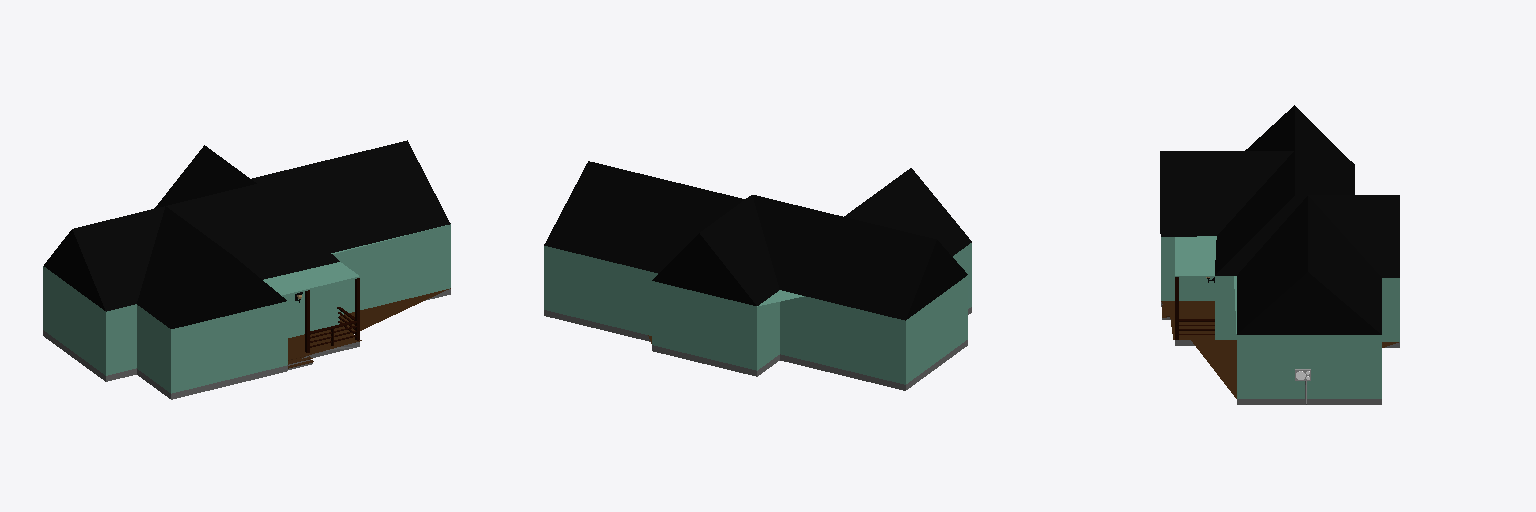
The model's file is house1.obj.
3 renders of one model, left to right at view 1: azimuth 30°, elevation 25°; view 2: azimuth 150°, elevation 25°; view 3: azimuth 270°, elevation 25°, orthographic.
Parts seen in each view (by area): view 1: Plane.001; view 2: Plane.001; view 3: Plane.001.
Boxes of the visible parts, box(x1,y1,x2,y2) form: Plane.001: box(43, 140, 450, 399); Plane.001: box(544, 161, 971, 390); Plane.001: box(1160, 105, 1399, 404).
Size of the model in its own units: 23.19 by 8.14 by 13.68.